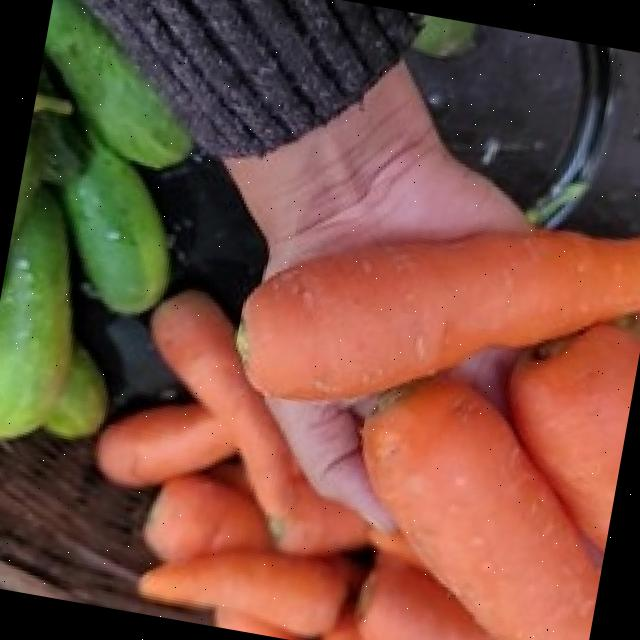carrot: (101, 236, 640, 640), (247, 235, 640, 403)
